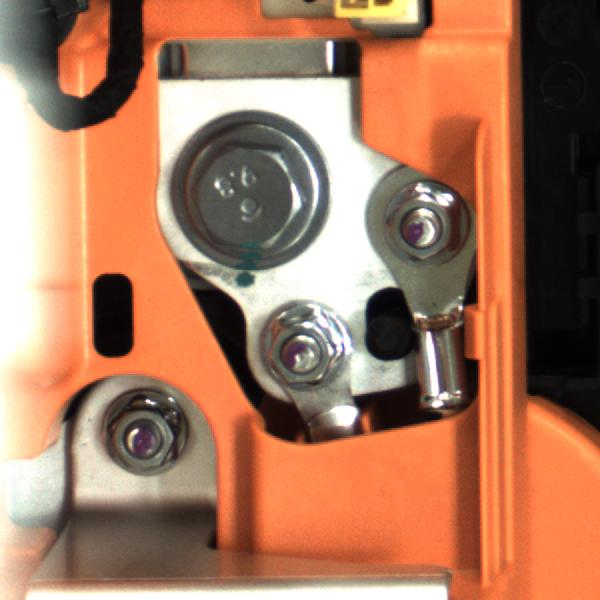nut_b: (169, 133, 319, 257)
screw_s: (258, 304, 351, 389), (89, 395, 183, 479), (389, 182, 469, 260)
